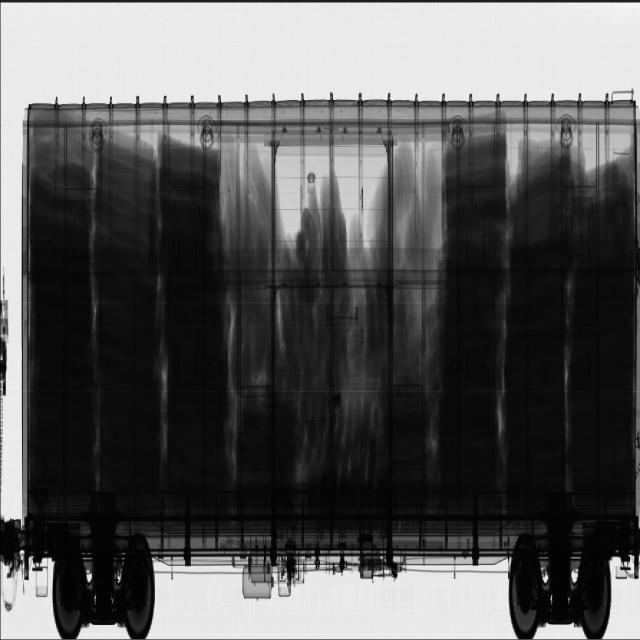textiles: (31, 112, 633, 506)
